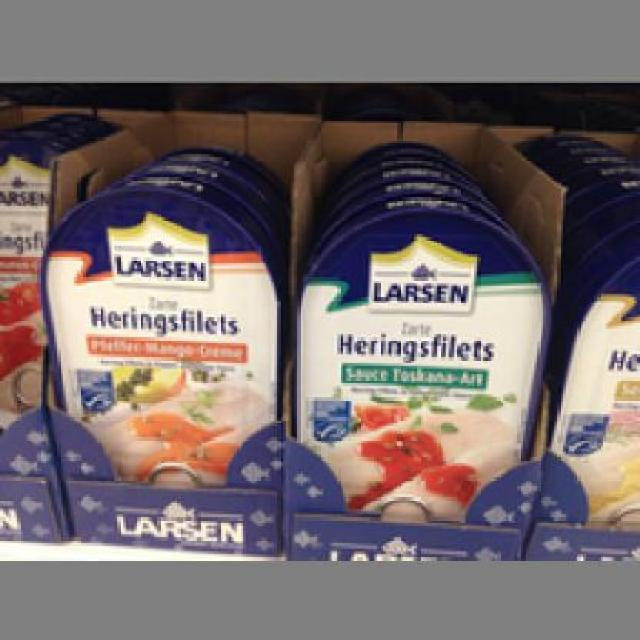Fish: (294, 197, 550, 526), (37, 176, 283, 489)
